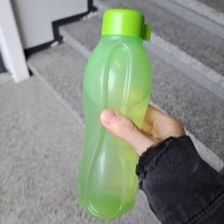bottle: (76, 7, 155, 214)
